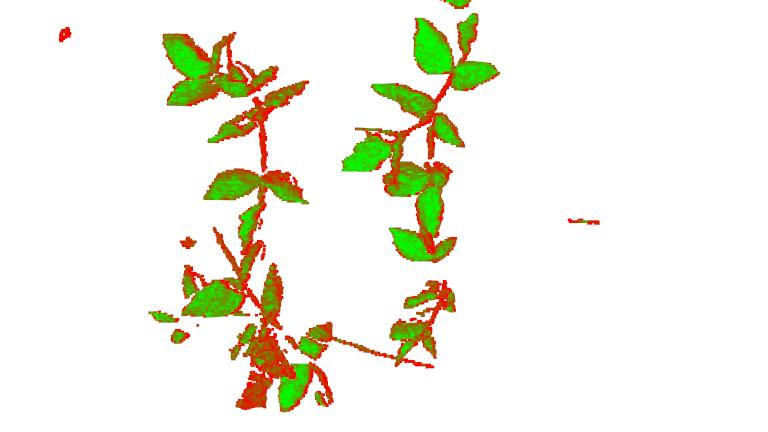mungbean: (341, 11, 507, 226), (159, 17, 308, 256), (147, 262, 336, 414), (382, 228, 460, 372)
